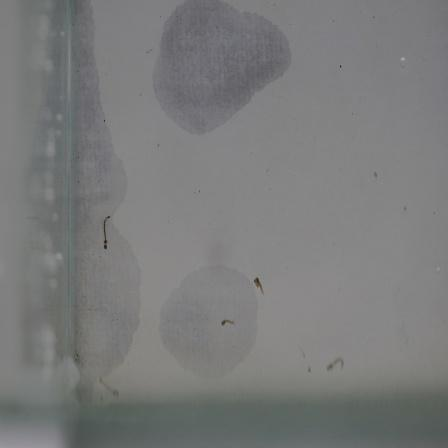Jentik-Nyamuk: (98, 211, 115, 255), (214, 311, 241, 335), (249, 270, 269, 299)
